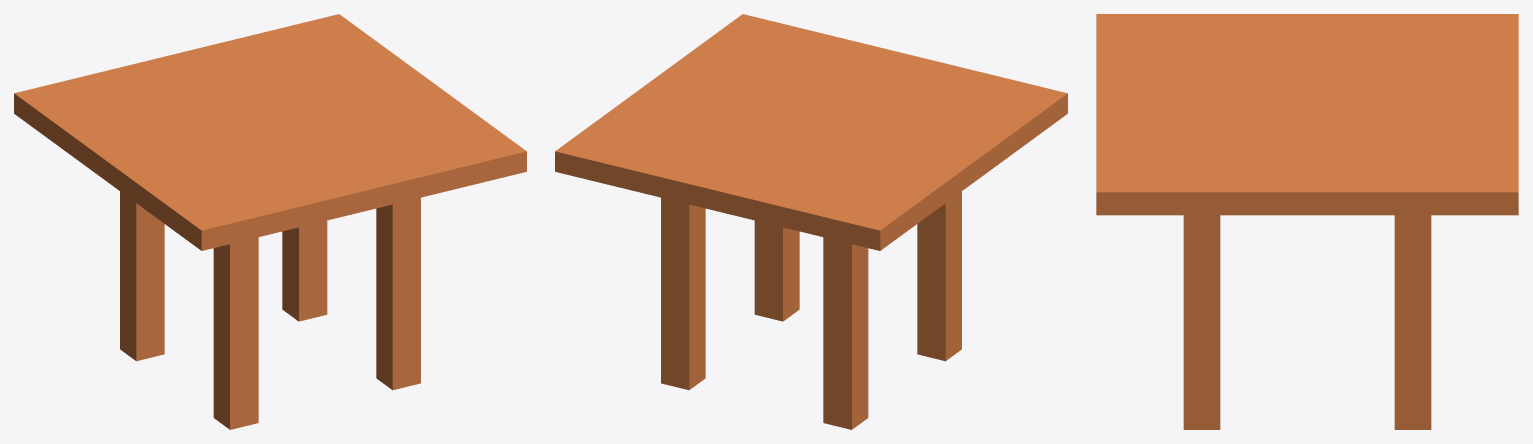
Rendered from Table_Square1.fbx.
3 views of the same model, side by side, from view 1: azimuth 30°, elevation 25°; view 2: azimuth 150°, elevation 25°; view 3: azimuth 270°, elevation 25° (orthographic). The views are drawn at different scales.
Parts seen in each view (by area): view 1: Table_Square1; view 2: Table_Square1; view 3: Table_Square1.
Part boxes in pixels (x1,y1,x2,y2): Table_Square1: [14, 14, 526, 429]; Table_Square1: [555, 14, 1067, 429]; Table_Square1: [1096, 14, 1518, 429].
Size of the model in its own units: 1.3 by 1.3 by 0.9312.
